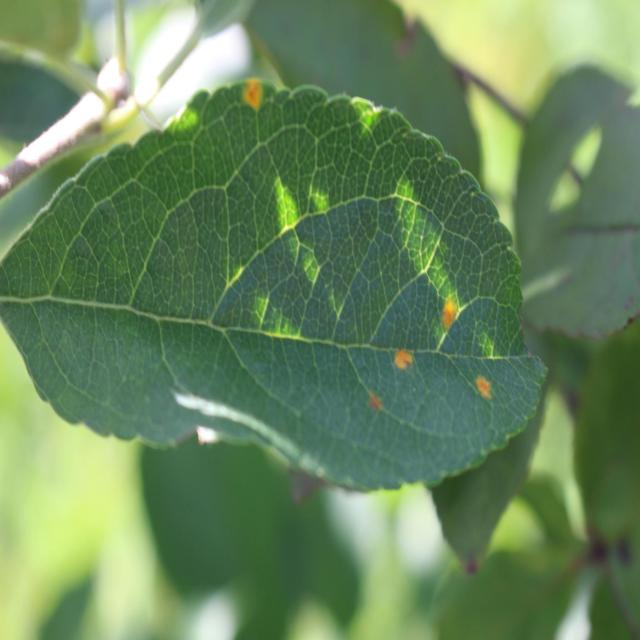Rust: (437, 280, 462, 346), (395, 327, 417, 391), (240, 73, 267, 124), (355, 386, 388, 419), (473, 371, 495, 413)
